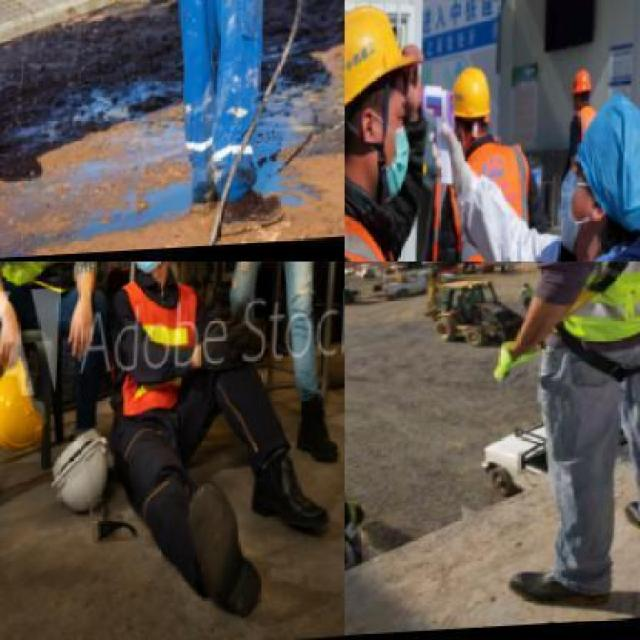vest: (166, 0, 323, 183), (437, 146, 548, 260), (116, 282, 202, 422), (516, 262, 638, 358), (0, 262, 102, 300), (572, 109, 602, 162)
